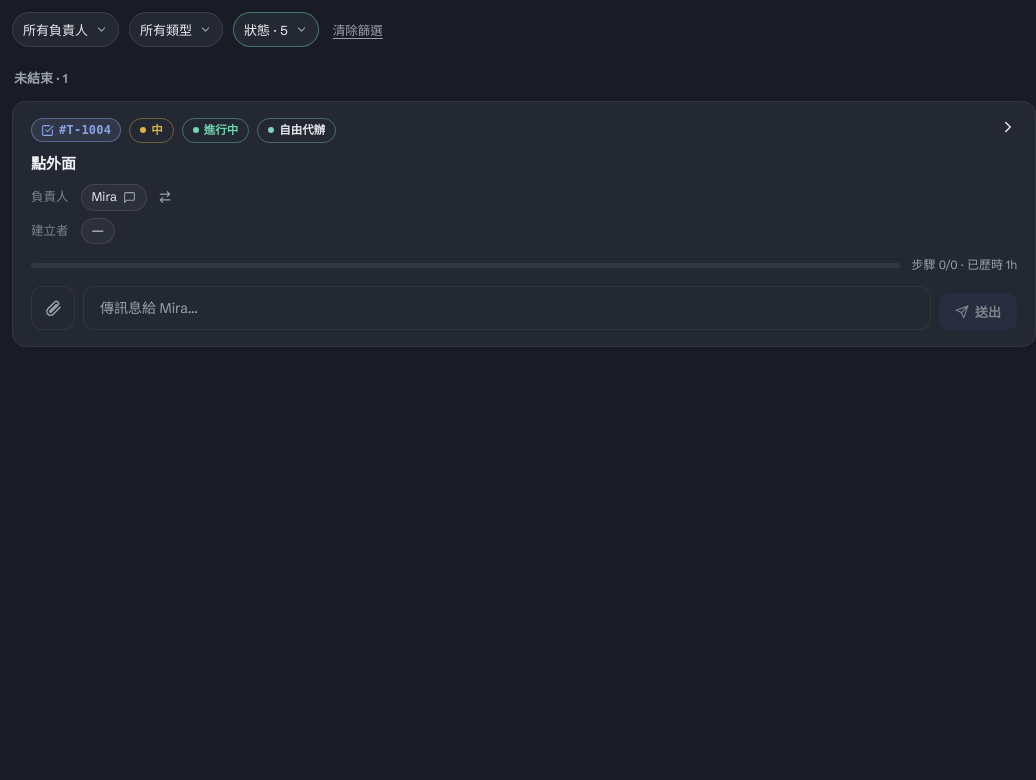
TaskCard in-place priority editing (v2) › a click outside the picker closes it without saving
Click the button with test id "task-priority" at (152, 130), box [129, 118, 174, 143]
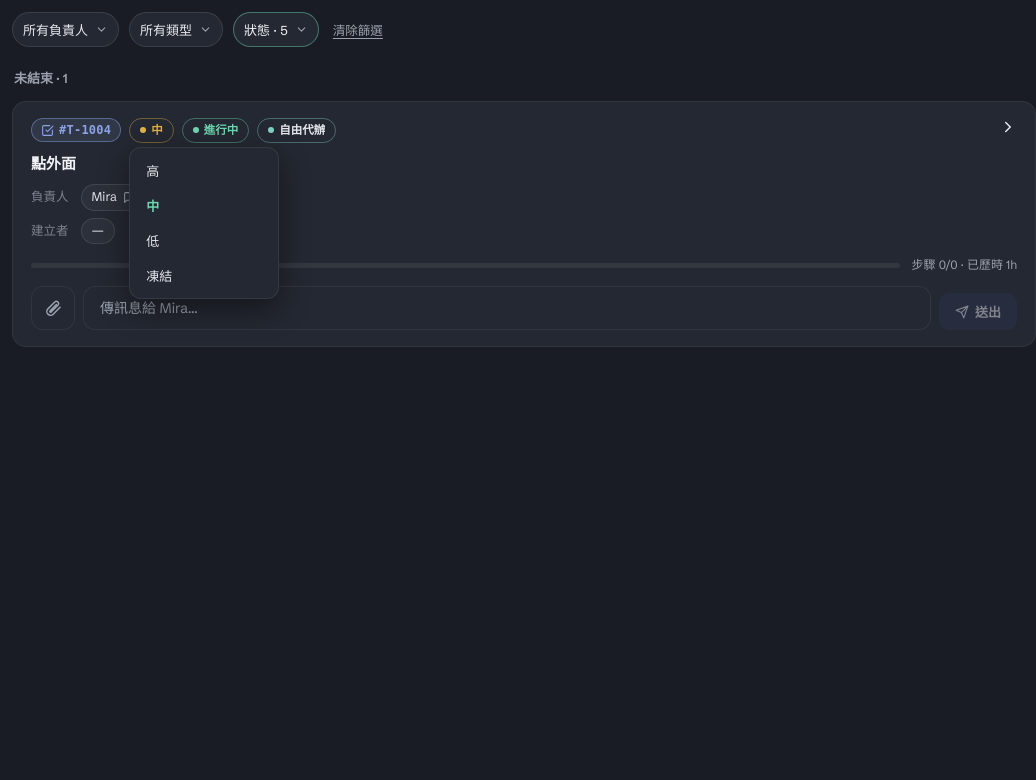
Now the menu with test id "task-priority-options" is shown, box [129, 147, 279, 299]
Press the mouse on the element that starts with "所有負責人" at (524, 396), box [12, 12, 1035, 779]
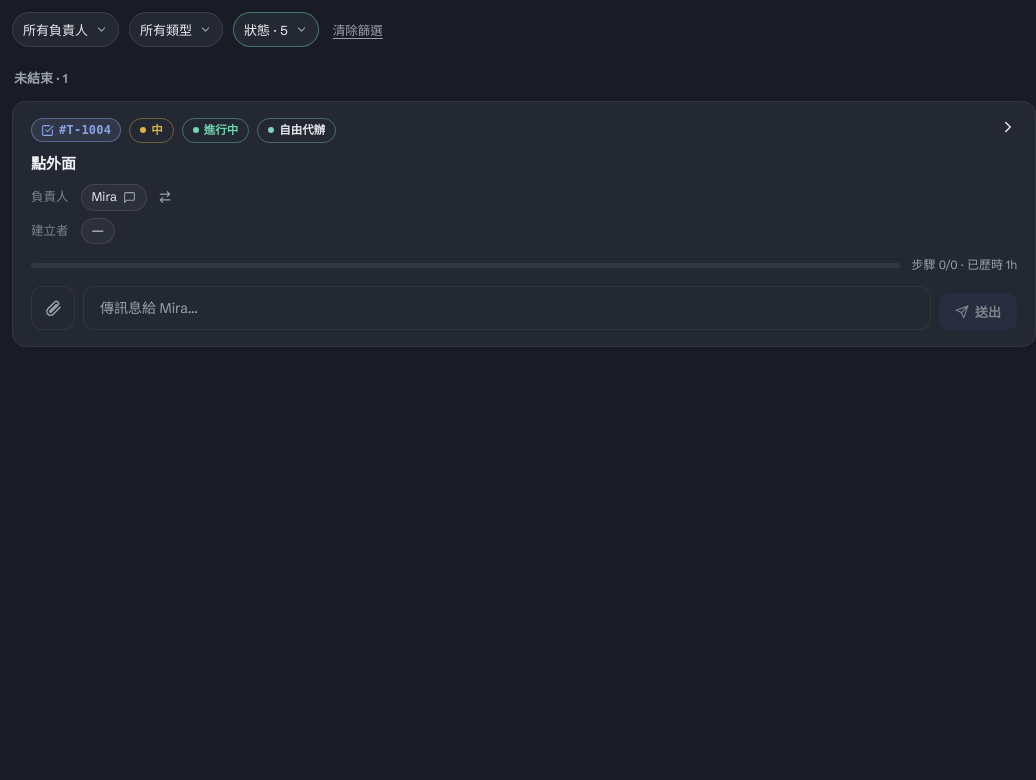
Expected: the button with test id "task-priority" reads "中", [129, 118, 174, 143]
Now the menu with test id "task-priority-options" is gone
